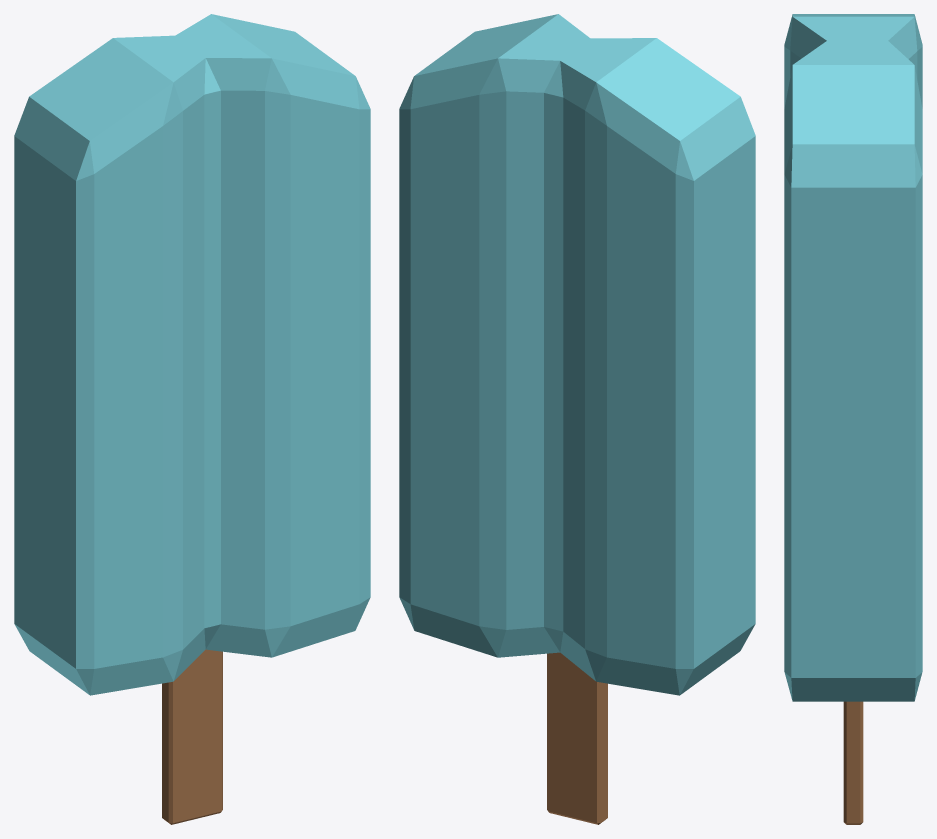
File: popsicle.glb
The picture shows the model from 3 angles, left to right: view 1: azimuth 30°, elevation 25°; view 2: azimuth 150°, elevation 25°; view 3: azimuth 270°, elevation 25°; orthographic projection.
Visible parts, largest first — view 1: posicle; view 2: posicle; view 3: posicle.
Boxes of the visible parts, x1,y1,x2,y2 form: posicle: (14,14,370,824); posicle: (399,14,755,824); posicle: (784,14,922,824).
Size of the model in its own units: 0.0721 by 0.1795 by 0.0291.
